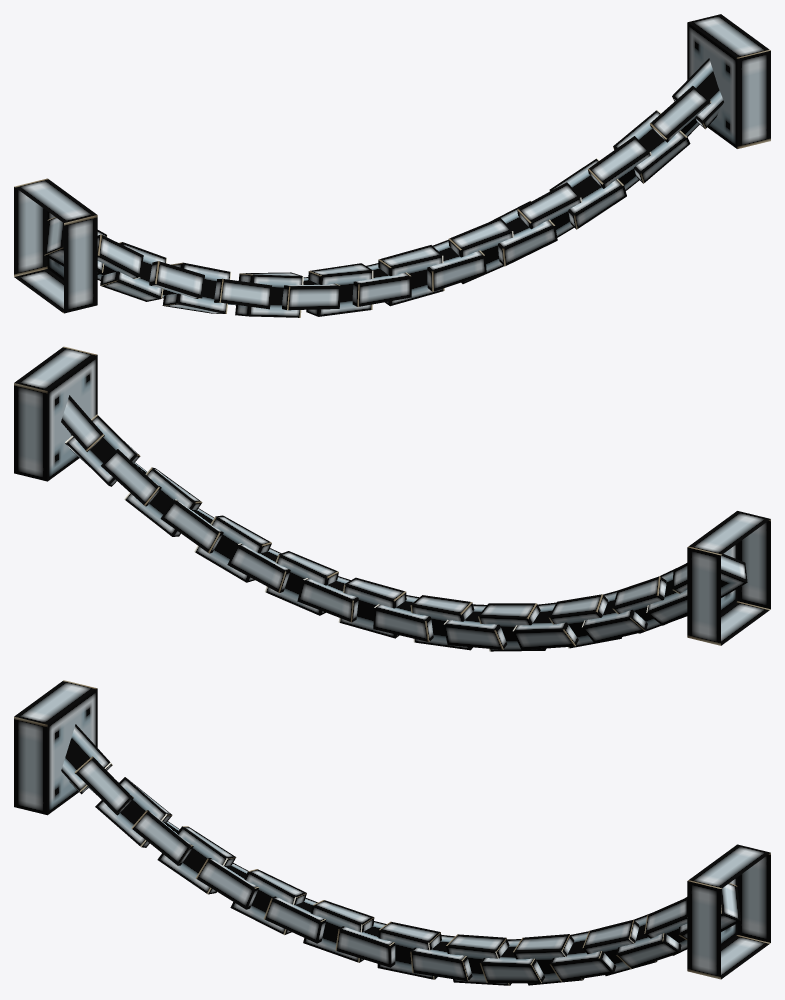
File: deco_cathedral_chainLong.FBX
The picture shows the model from 3 angles, top to bottom: view 1: azimuth 30°, elevation 25°; view 2: azimuth 150°, elevation 25°; view 3: azimuth 330°, elevation 25°; orthographic projection.
Parts seen in each view (by area): view 1: deco_cathedral_chainLong; view 2: deco_cathedral_chainLong; view 3: deco_cathedral_chainLong.
Boxes of the visible parts, x1=… form: deco_cathedral_chainLong: x1=14, y1=14, x2=770, y2=317; deco_cathedral_chainLong: x1=14, y1=346, x2=770, y2=651; deco_cathedral_chainLong: x1=14, y1=680, x2=770, y2=985.
Bounding box in the file's own units: 3.5 × 0.8586 × 0.4281.
Materials: 1 (1 with a texture image).
